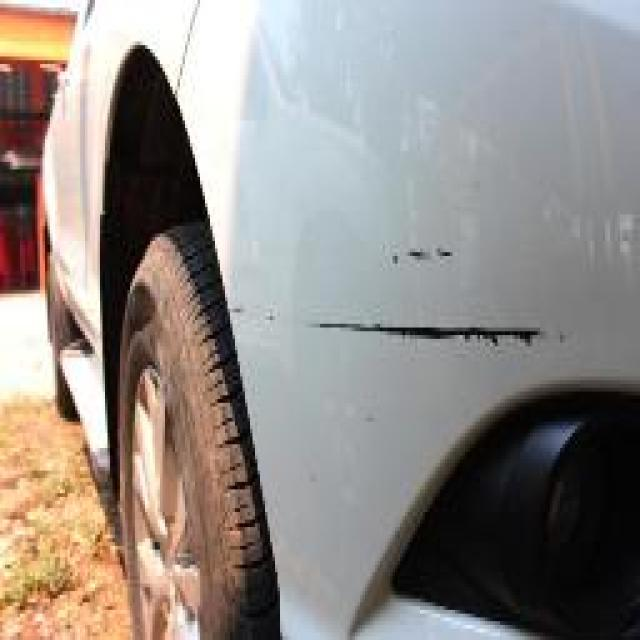Bumper: (199, 192, 613, 443)
